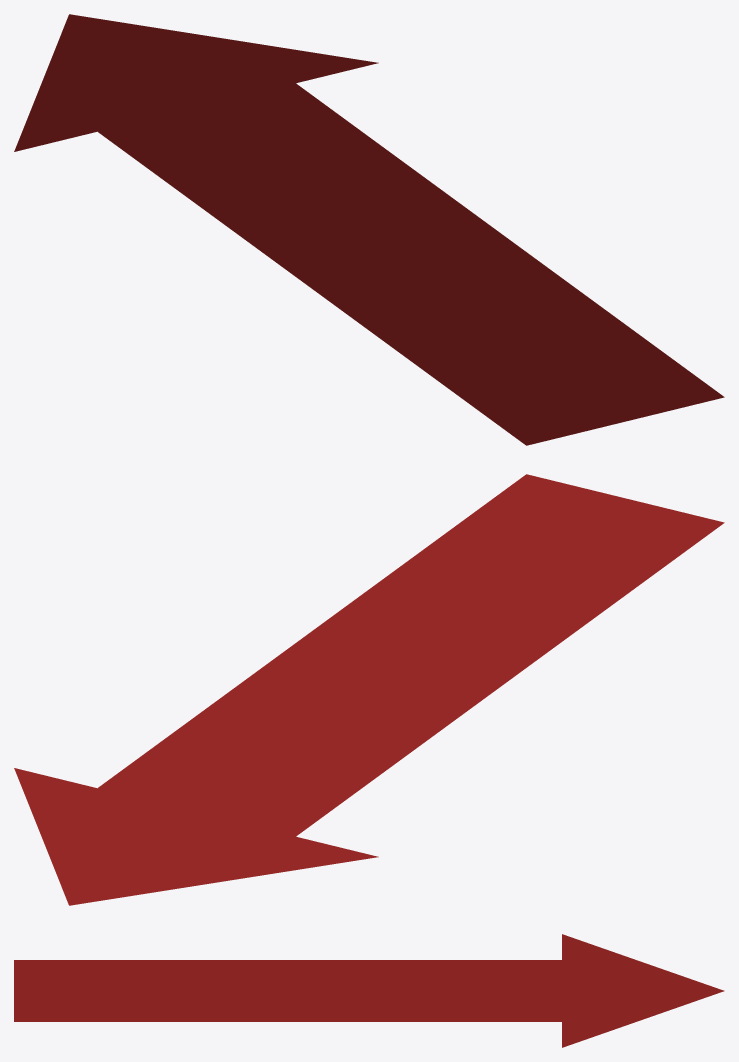
The picture shows the model from 3 angles, top to bottom: view 1: azimuth 30°, elevation 25°; view 2: azimuth 150°, elevation 25°; view 3: azimuth 270°, elevation 25°; orthographic projection. The views are drawn at different scales.
Visible parts, largest first — view 1: Joint_0_Object_0; view 2: Joint_0_Object_0; view 3: Joint_0_Object_0.
Boxes of the visible parts, box(x1,y1,x2,y2) form: Joint_0_Object_0: box(14, 14, 724, 445); Joint_0_Object_0: box(14, 474, 724, 905); Joint_0_Object_0: box(14, 934, 724, 1047).
Bounding box in the file's own units: 180 × 0 × 475.
